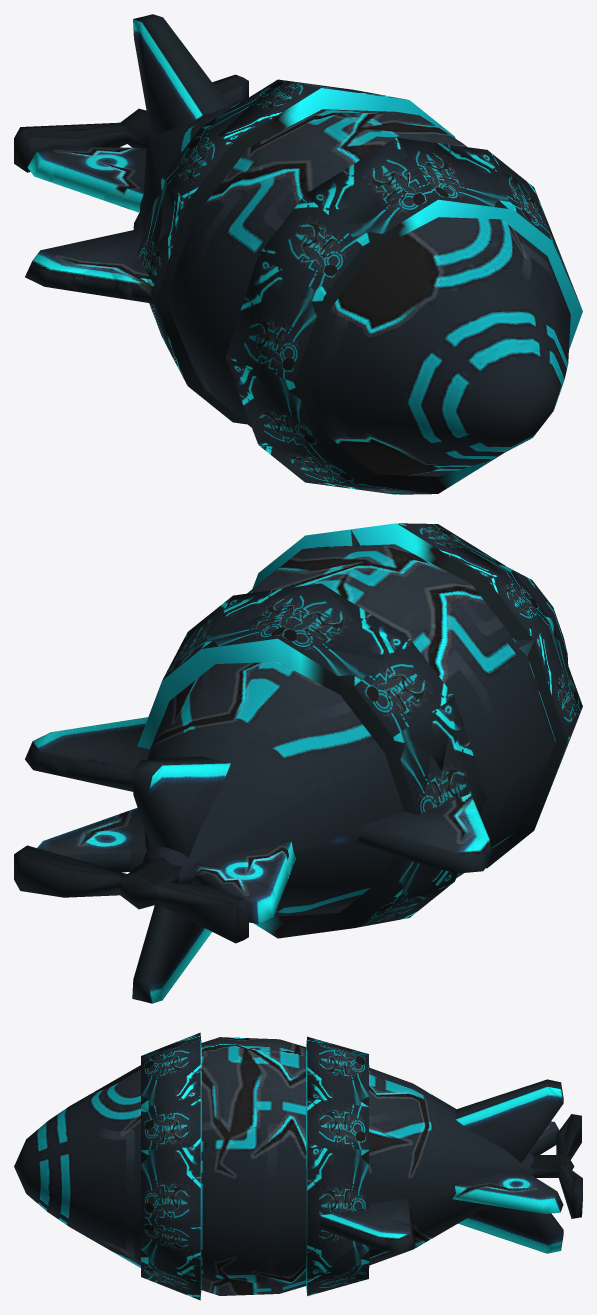
Rendered from DDT.fbx.
The picture shows the model from 3 angles, top to bottom: view 1: azimuth 30°, elevation 25°; view 2: azimuth 150°, elevation 25°; view 3: azimuth 270°, elevation 25°; orthographic projection. The views are drawn at different scales.
Parts seen in each view (by area): view 1: Body, Fortification, Fortification4, Fortification2, FinRightDamage, BrokenPropeller, FinRight, Fortification3, Body3, Fortification1, Propeller; view 2: Body, Fortification, Fortification1, Fortification4, FinRight, BrokenPropeller, Fortification2, Fortification3, Propeller, FinRightDamage, Body2, Body3 (+1 smaller); view 3: Body, Fortification, Fortification2, Fortification4, Fortification3, Fortification1, Body1, BrokenPropeller, Propeller, Body2.
Boxes of the visible parts, left/top/right/bottom form: Body: left=27, top=14, right=570, bottom=476; Fortification: left=137, top=80, right=582, bottom=494; Fortification4: left=191, top=79, right=513, bottom=255; Fortification2: left=259, top=85, right=437, bottom=259; FinRightDamage: left=41, top=228, right=154, bottom=302; BrokenPropeller: left=14, top=74, right=248, bottom=172; FinRight: left=25, top=228, right=154, bottom=303; Fortification3: left=137, top=168, right=550, bottom=296; Body3: left=35, top=145, right=145, bottom=212; Fortification1: left=204, top=87, right=581, bottom=307; Propeller: left=20, top=78, right=243, bottom=130; Body: left=25, top=544, right=568, bottom=1003; Fortification: left=162, top=523, right=582, bottom=938; Fortification1: left=137, top=638, right=417, bottom=927; Fortification4: left=209, top=523, right=533, bottom=694; FinRight: left=354, top=793, right=492, bottom=873; BrokenPropeller: left=14, top=845, right=248, bottom=943; Fortification2: left=209, top=523, right=502, bottom=638; Fortification3: left=393, top=697, right=486, bottom=814; Propeller: left=28, top=845, right=242, bottom=943; FinRightDamage: left=360, top=797, right=488, bottom=851; Body2: left=45, top=808, right=146, bottom=871; Body3: left=199, top=843, right=295, bottom=915; Body: left=14, top=1037, right=563, bottom=1295; Fortification: left=141, top=1036, right=369, bottom=1300; Fortification2: left=143, top=1032, right=369, bottom=1277; Fortification4: left=141, top=1040, right=368, bottom=1222; Fortification3: left=141, top=1100, right=367, bottom=1280; Fortification1: left=141, top=1040, right=369, bottom=1222; Body1: left=322, top=1199, right=415, bottom=1244; BrokenPropeller: left=530, top=1114, right=582, bottom=1218; Propeller: left=558, top=1114, right=581, bottom=1218; Body2: left=457, top=1177, right=548, bottom=1199.
Size of the model in its own units: 35.34 by 26.31 by 53.46.
